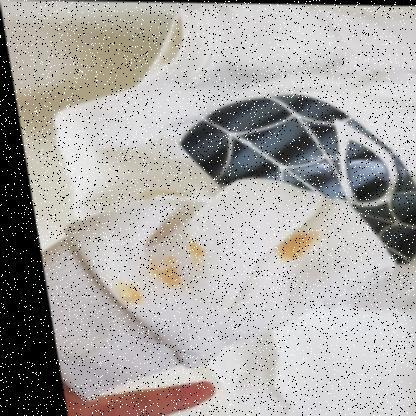kimchi: (275, 232, 319, 262), (118, 275, 152, 310), (155, 259, 189, 289), (191, 242, 204, 257)
